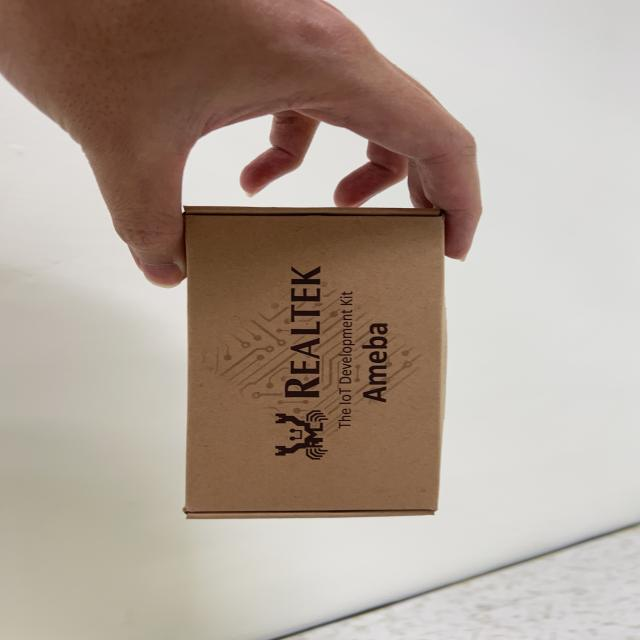box: (172, 199, 455, 540)
